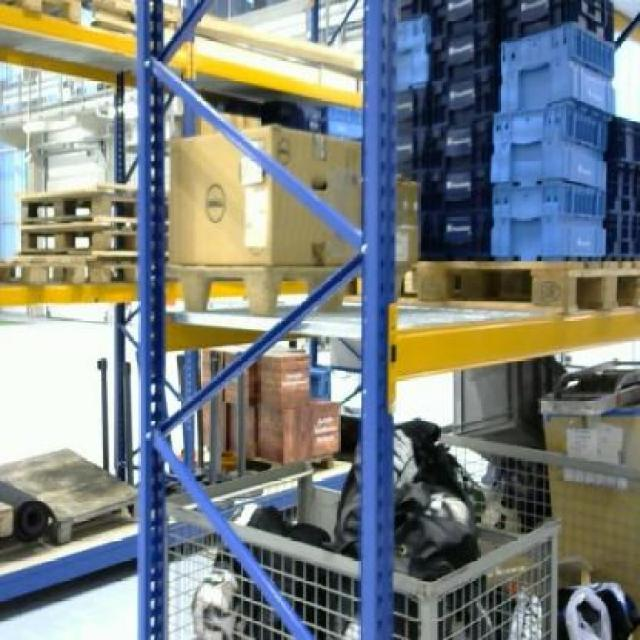box: (168, 124, 360, 268), (256, 350, 310, 408), (255, 406, 312, 460), (314, 398, 342, 460)
